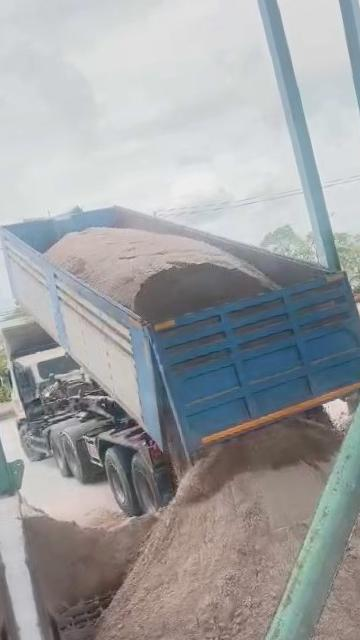sand: (87, 418, 340, 640), (45, 227, 274, 323), (25, 509, 156, 613), (304, 461, 360, 640), (165, 412, 187, 477)
